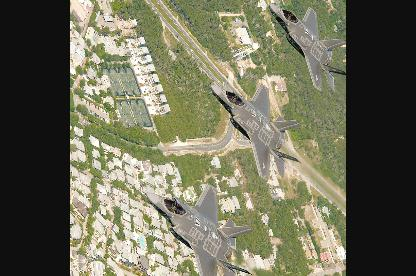F22: (146, 181, 254, 275), (210, 82, 302, 180), (269, 1, 345, 91)
